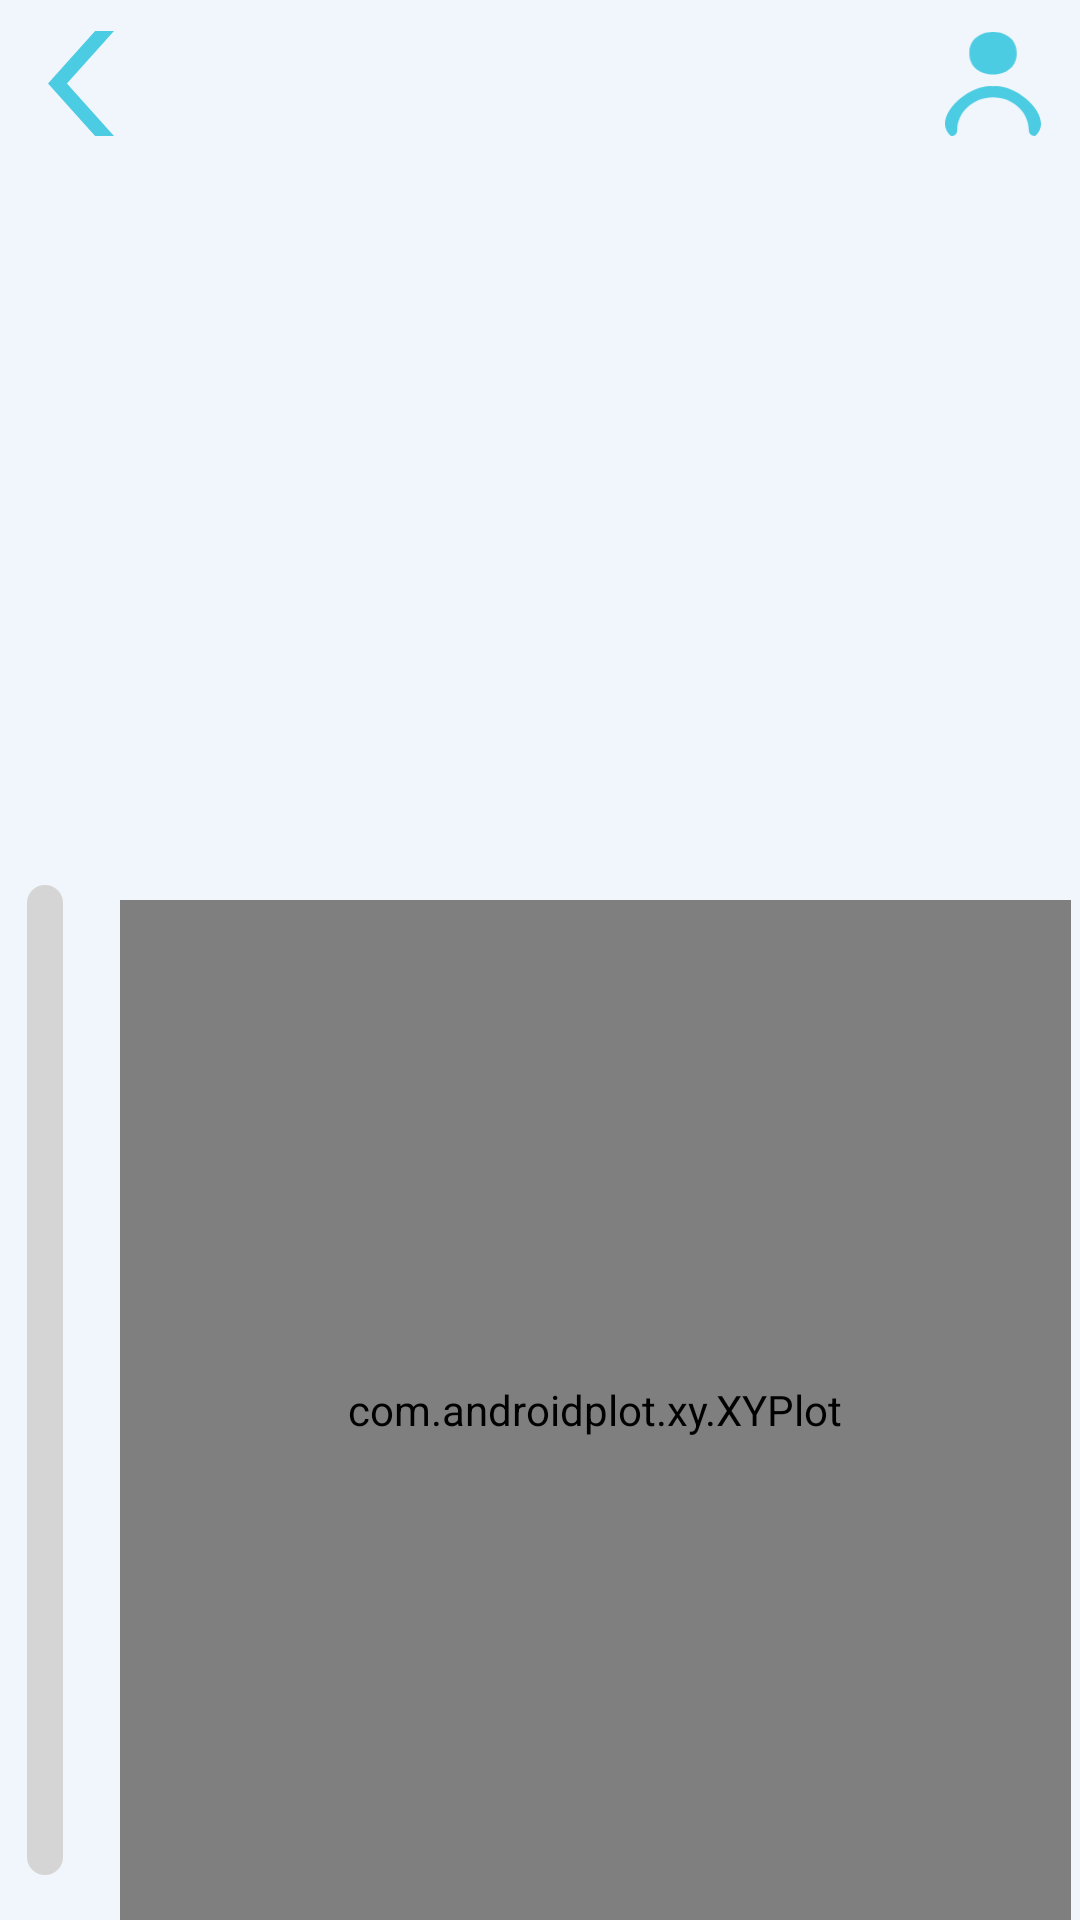

Screen size 1080 x 1920. Icon name, then its box in pixels as (x1, y1, x2, y2):
arrow: (48, 31, 114, 136)
mypage: (945, 32, 1041, 136)
